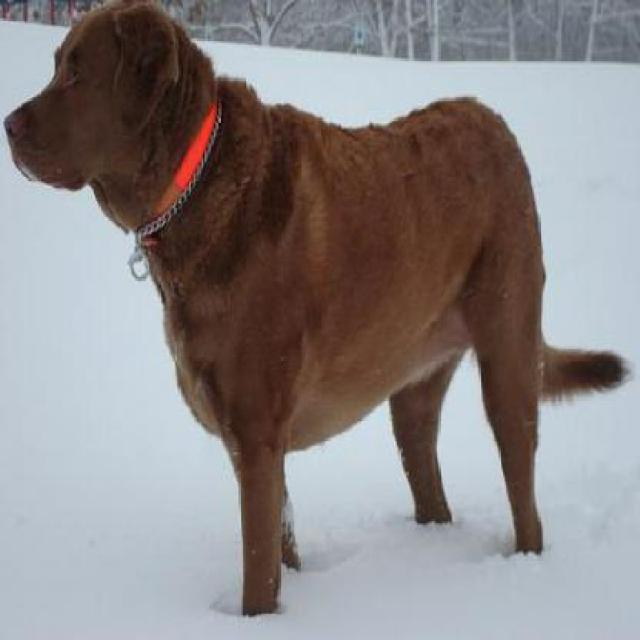Dog: (0, 0, 638, 627)
